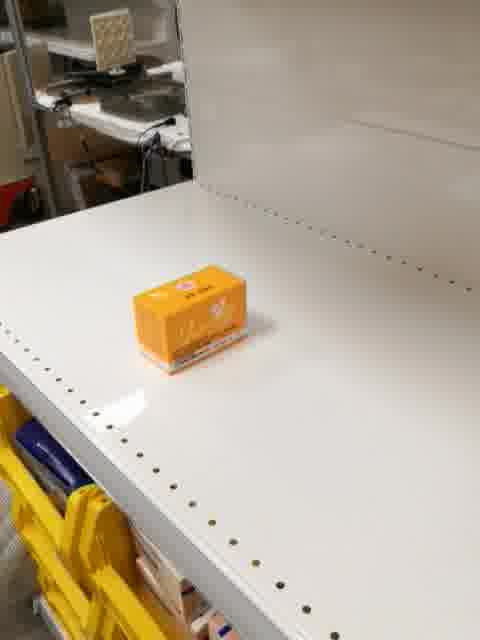jasminetea: (133, 263, 249, 376)
